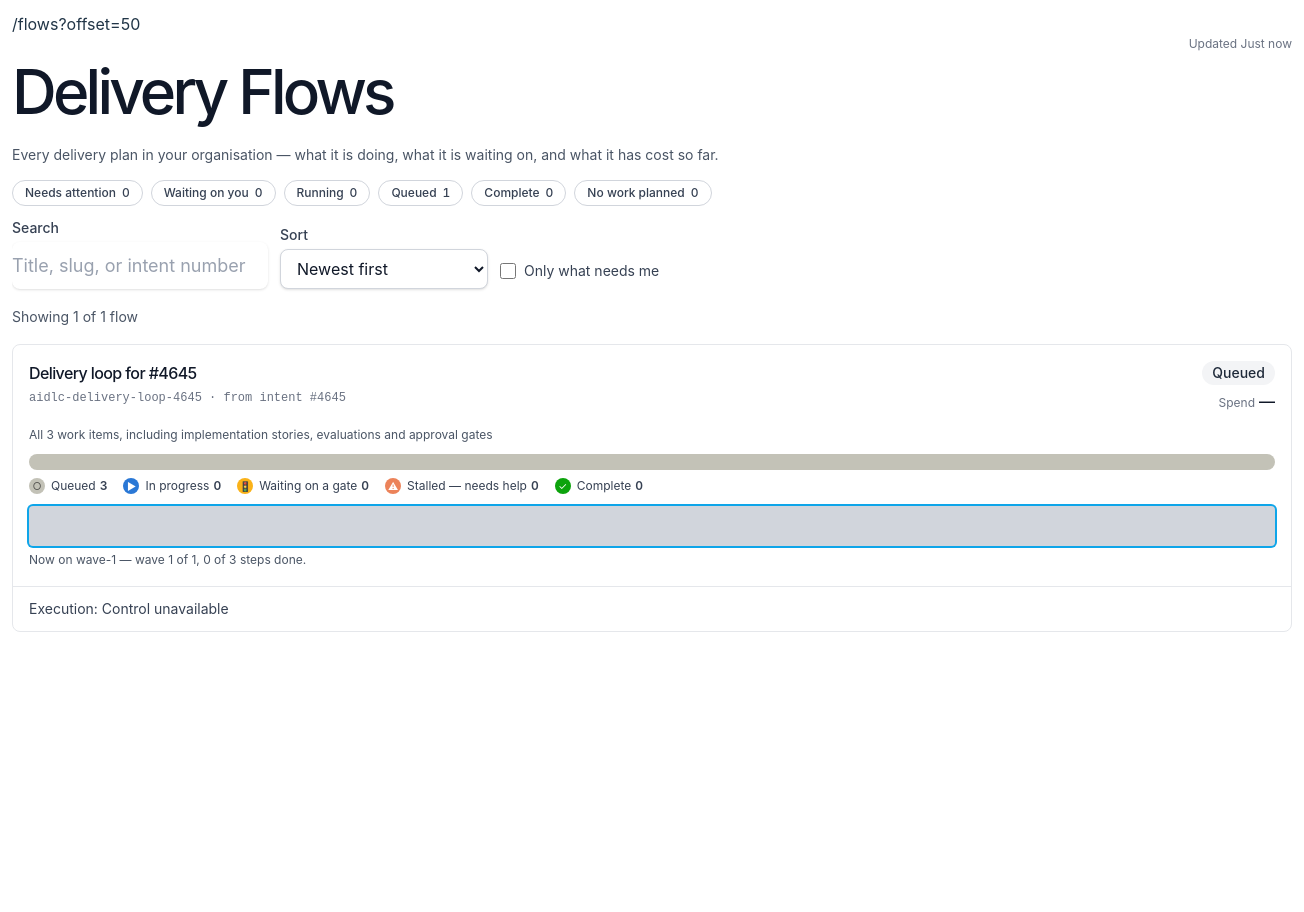
Test: filters live in the query string › returns to the first page when a filter changes
What coordinates should you click on to do the following:
click the checkbox with test id "needs-me-filter"
I would click on:
 (508, 270)
Its box is [500,262,516,278].
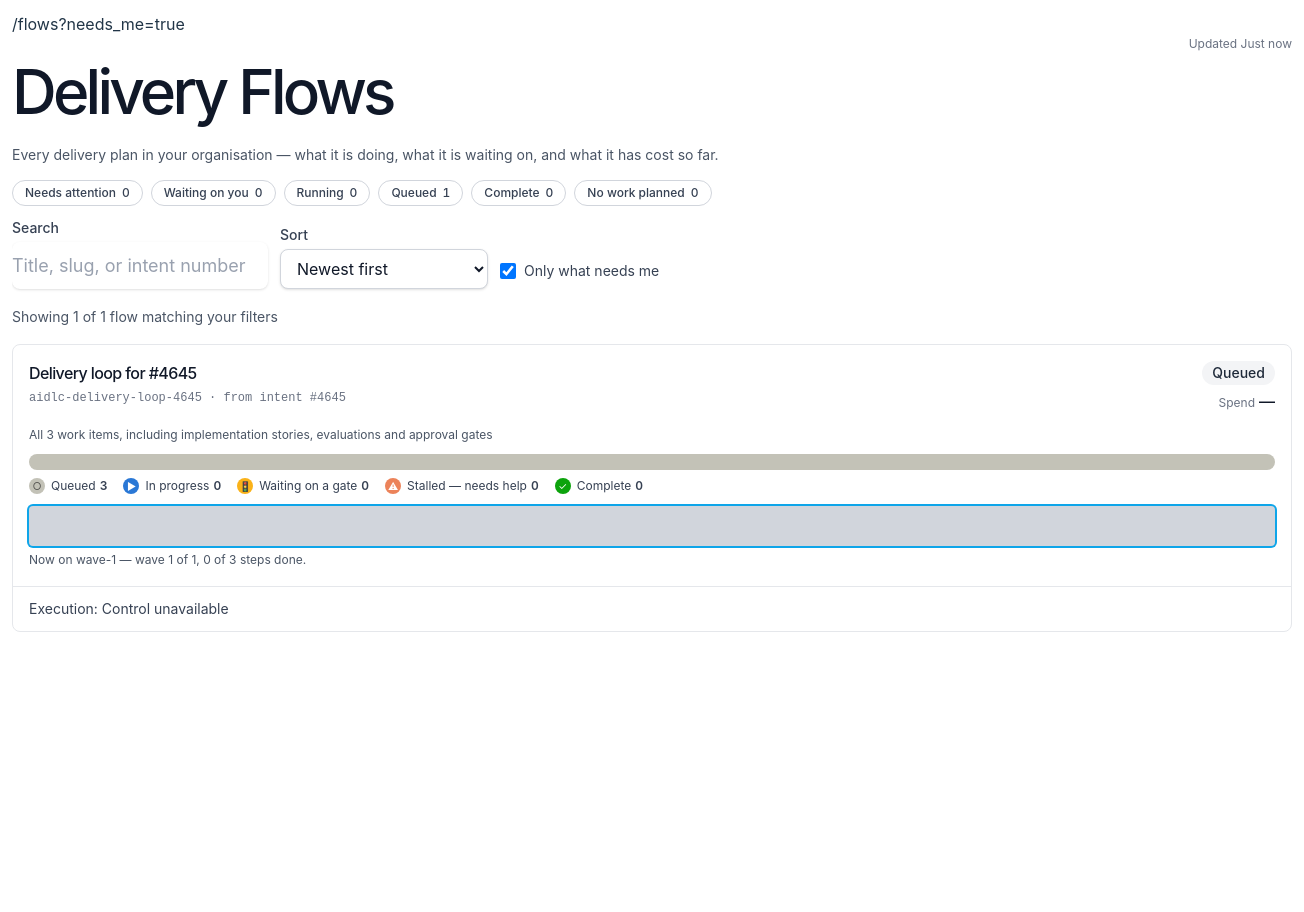
Result: the text with test id "location" no longer shows "offset="
